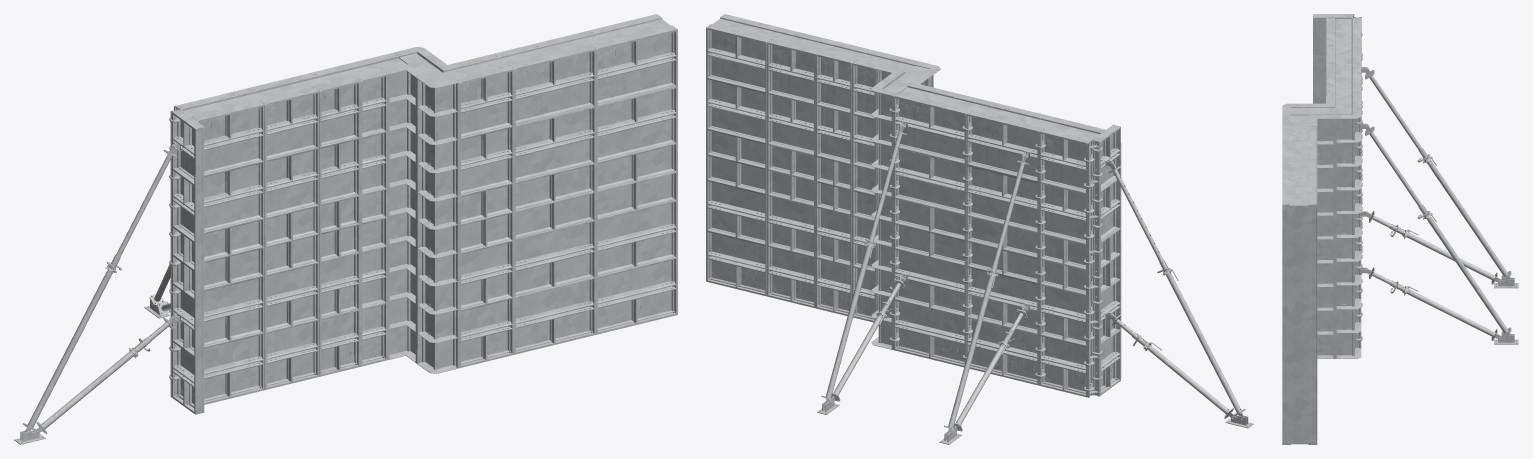
Rendered from allforte-modular-steel-formwork.glb.
3 renders of one model, left to right at view 1: azimuth 30°, elevation 25°; view 2: azimuth 150°, elevation 25°; view 3: azimuth 270°, elevation 25°, orthographic. The views are drawn at different scales.
Visible parts, largest first — view 1: AllfortePanels; view 2: AllfortePanels; view 3: AllfortePanels.
Part boxes in pixels (<box>): AllfortePanels: <box>14,14,677,444</box>; AllfortePanels: <box>706,14,1253,444</box>; AllfortePanels: <box>1282,14,1518,444</box>.
Size of the model in its own units: 6.88 by 3 by 2.68.
Materials: 1 (1 with a texture image).
